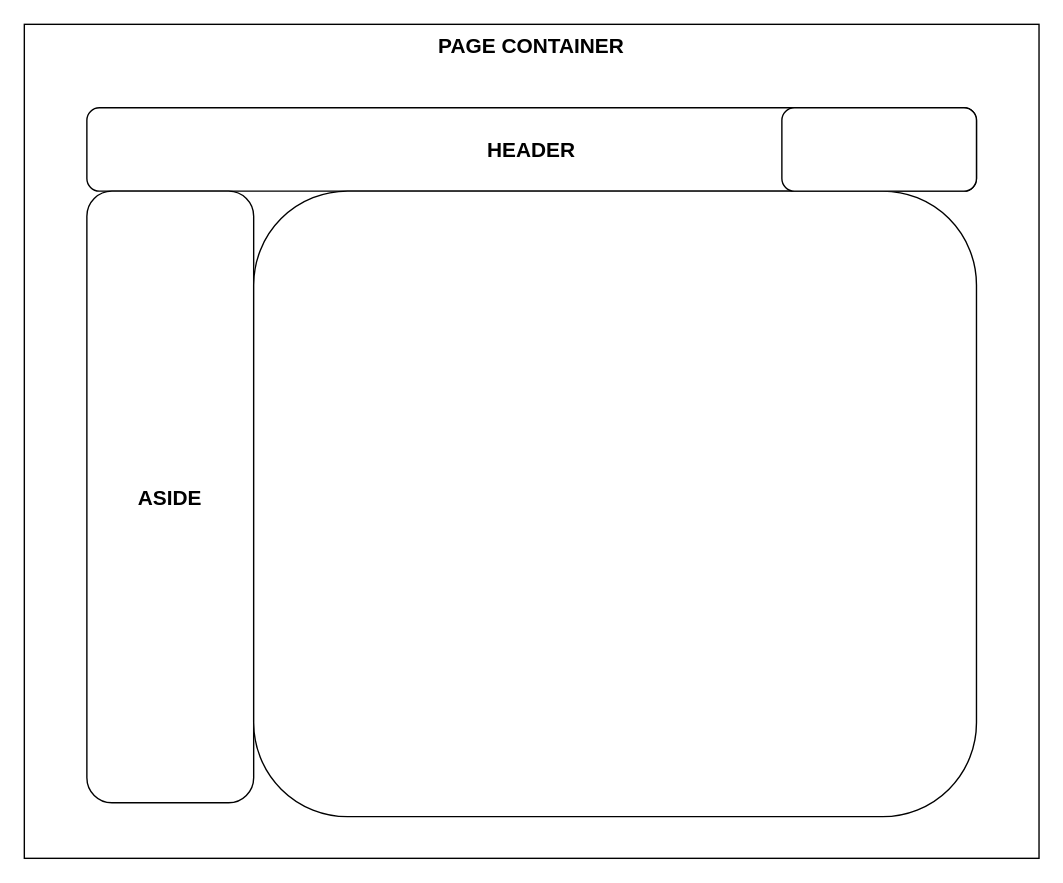
Image size: 1063x883. Some labels were removed from this diagram. Here are the shapes that lost their labels. From the top down, the centre of each, then its label:
point (878, 148): LOGIN/REGISTER
point (614, 503): MAIN
